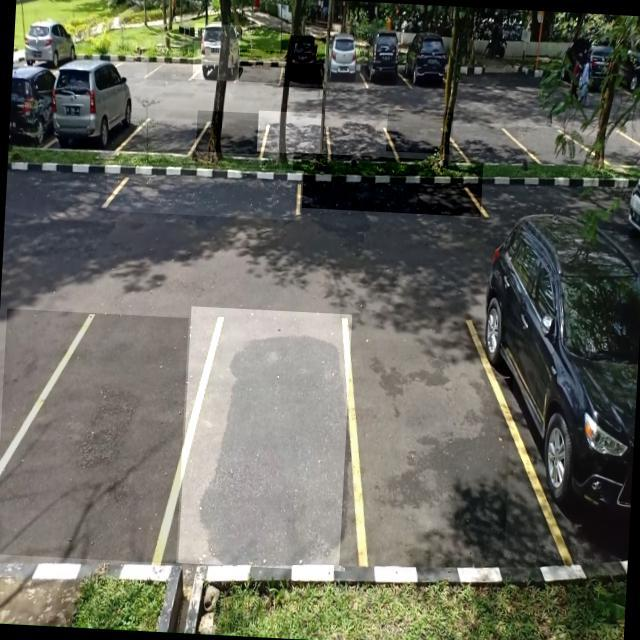empty: (0, 308, 188, 563), (178, 306, 358, 572), (339, 314, 520, 576), (291, 152, 484, 218), (105, 162, 304, 222), (123, 108, 197, 154), (322, 109, 390, 154), (386, 110, 455, 154), (258, 110, 326, 154), (195, 110, 262, 154), (452, 110, 519, 154), (146, 48, 197, 82), (237, 49, 284, 84)
occupied: (504, 232, 640, 563), (47, 68, 135, 152), (193, 24, 242, 82), (279, 34, 326, 89), (364, 31, 405, 91), (322, 38, 368, 90)
